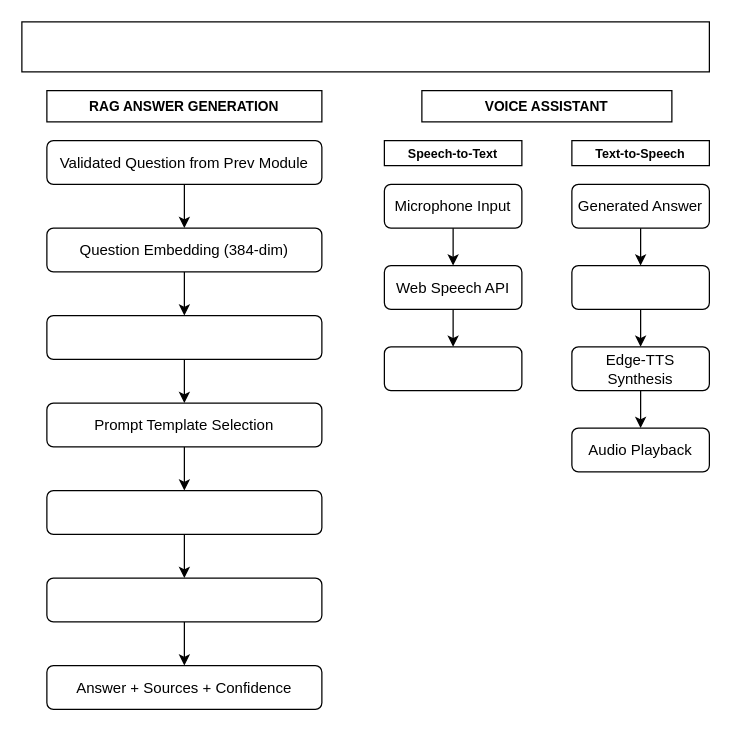
This 731x731 diagram has some shape labels left out. Here are the shapes that lost their labels. From the top down, the centre of each, then its label:
At point (365, 46): "RAG ANSWER GENERATION & VOICE ASSISTANT".
At point (640, 286): "Ollama Explanation".
At point (184, 336): "FAISS Semantic Search (Top-3)".
At point (452, 368): "Transcribed Text".
At point (184, 511): "Ollama Llama 3.1 8B Generation".
At point (184, 599): "Confidence Scoring".
